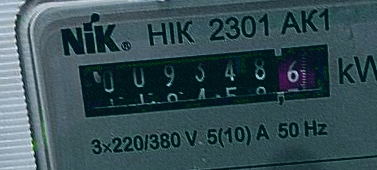0: (130, 64, 147, 88), (100, 67, 115, 94)
3: (191, 58, 207, 85)
4: (221, 55, 237, 83)
6: (283, 57, 302, 85)
8: (251, 54, 268, 83)
9: (160, 61, 177, 89)
screen: (68, 35, 342, 127)
